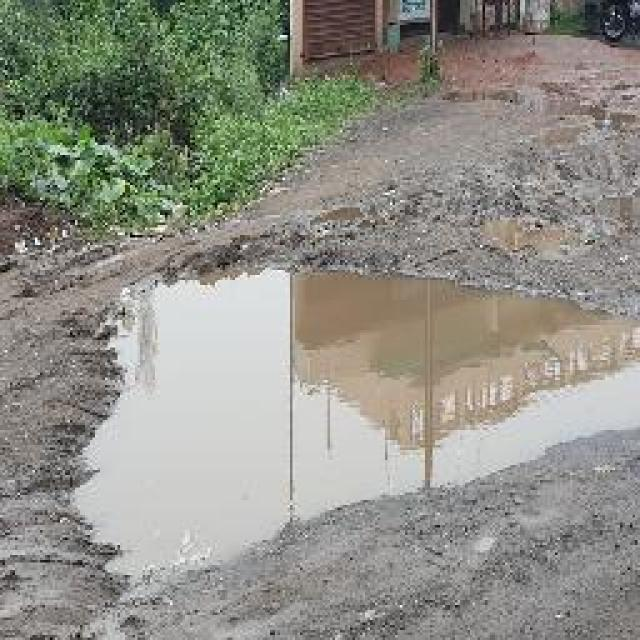waterlogging: (55, 246, 632, 603)
